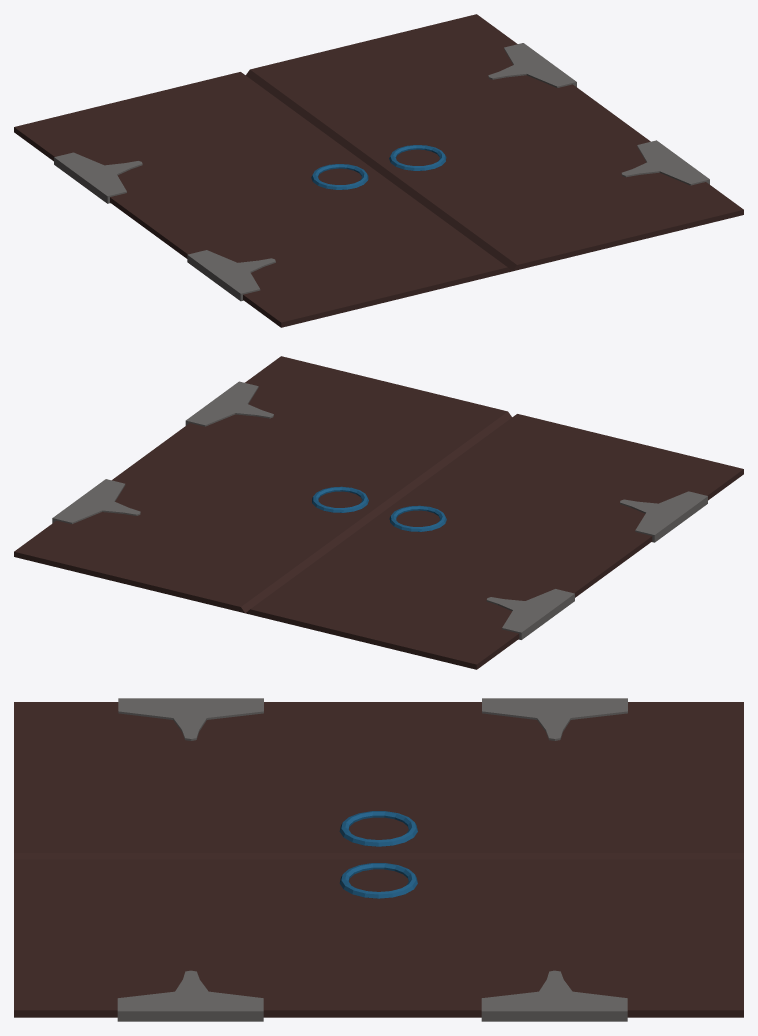
Rendered from Trappe.fbx.
3 renders of one model, top to bottom at view 1: azimuth 30°, elevation 25°; view 2: azimuth 150°, elevation 25°; view 3: azimuth 270°, elevation 25°, orthographic. The views are drawn at different scales.
Parts seen in each view (by area): view 1: Cube.009; view 2: Cube.009; view 3: Cube.009.
Part boxes in pixels (bbox=[...]): Cube.009: bbox=[14, 14, 743, 327]; Cube.009: bbox=[14, 356, 743, 669]; Cube.009: bbox=[14, 698, 743, 1021].
Size of the model in its own units: 203 by 3.81 by 200.
